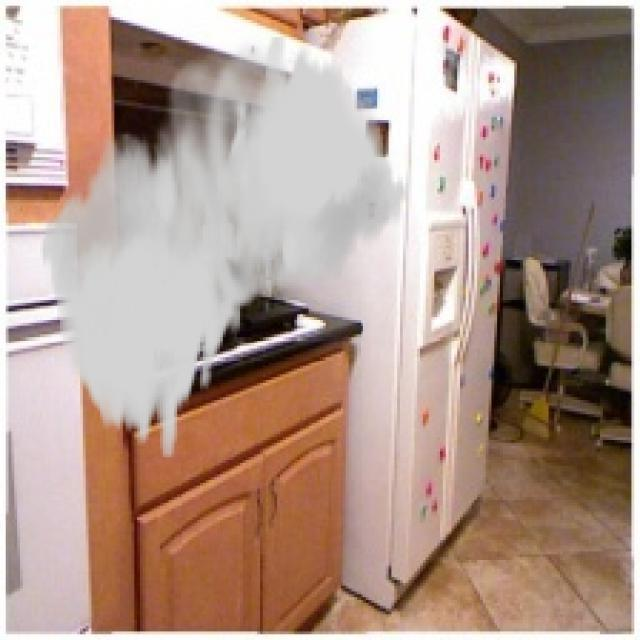Smoke: (40, 34, 409, 457)
